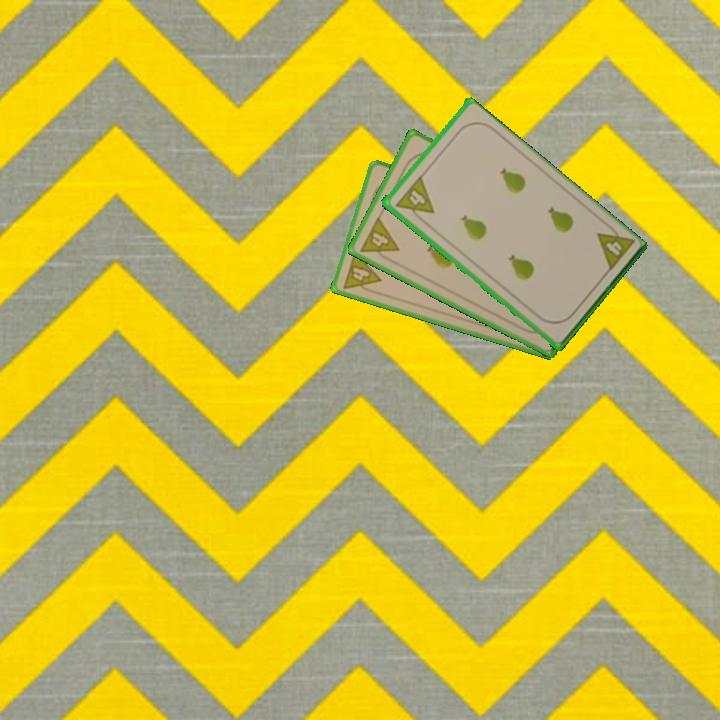4p: (593, 219, 637, 275), (356, 213, 402, 266), (391, 173, 436, 226), (339, 248, 384, 297)
